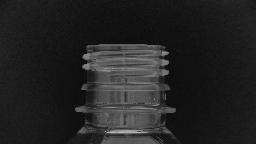No Cap: (72, 39, 178, 116)
